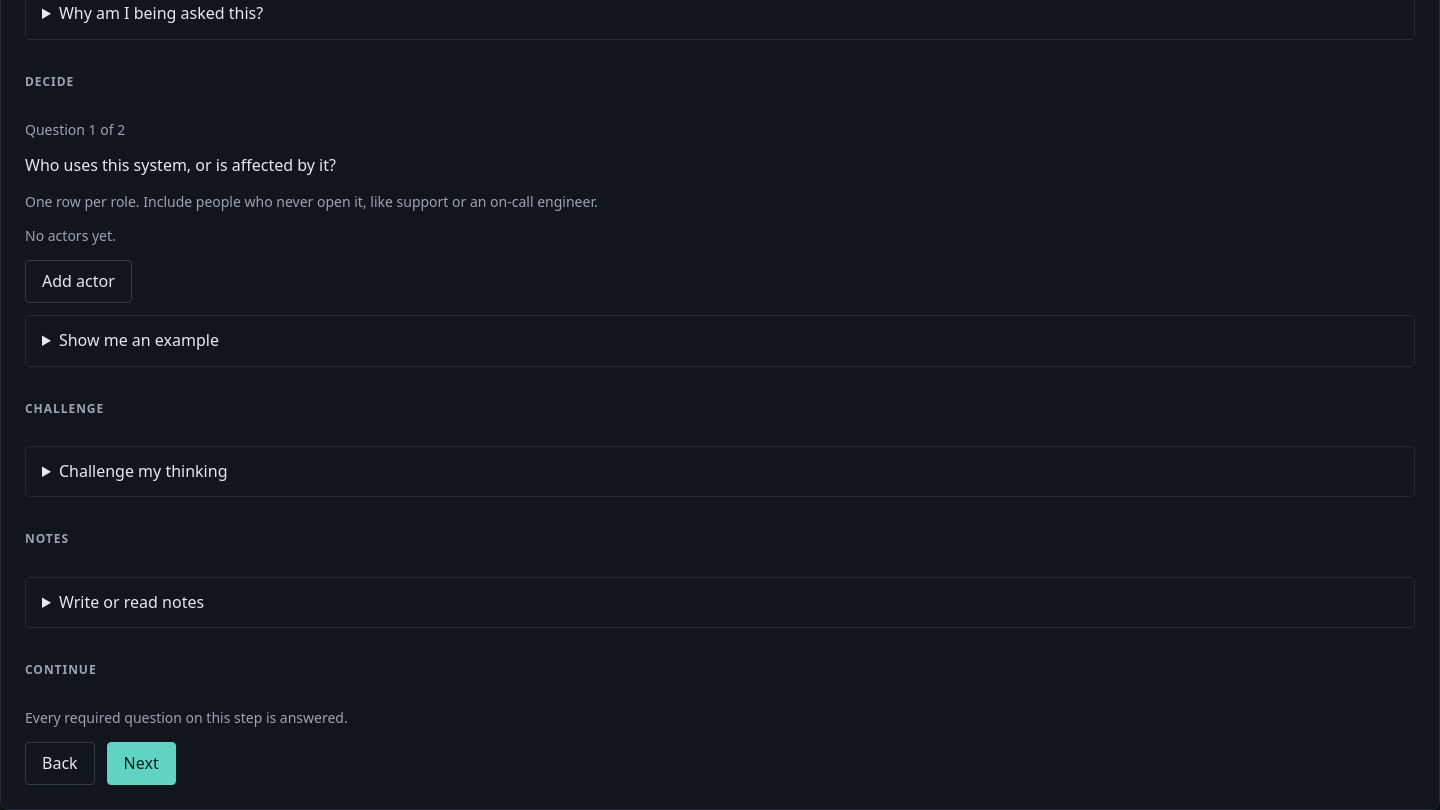
StepPanelComponent › a step with several questions › marks an optional question as optional, and a required one not
The width and height of the screenshot is (1440, 810).
(page scrolled)
Click the button "Next". click: (141, 763)
box: [107,742,176,785]
(page scrolled)
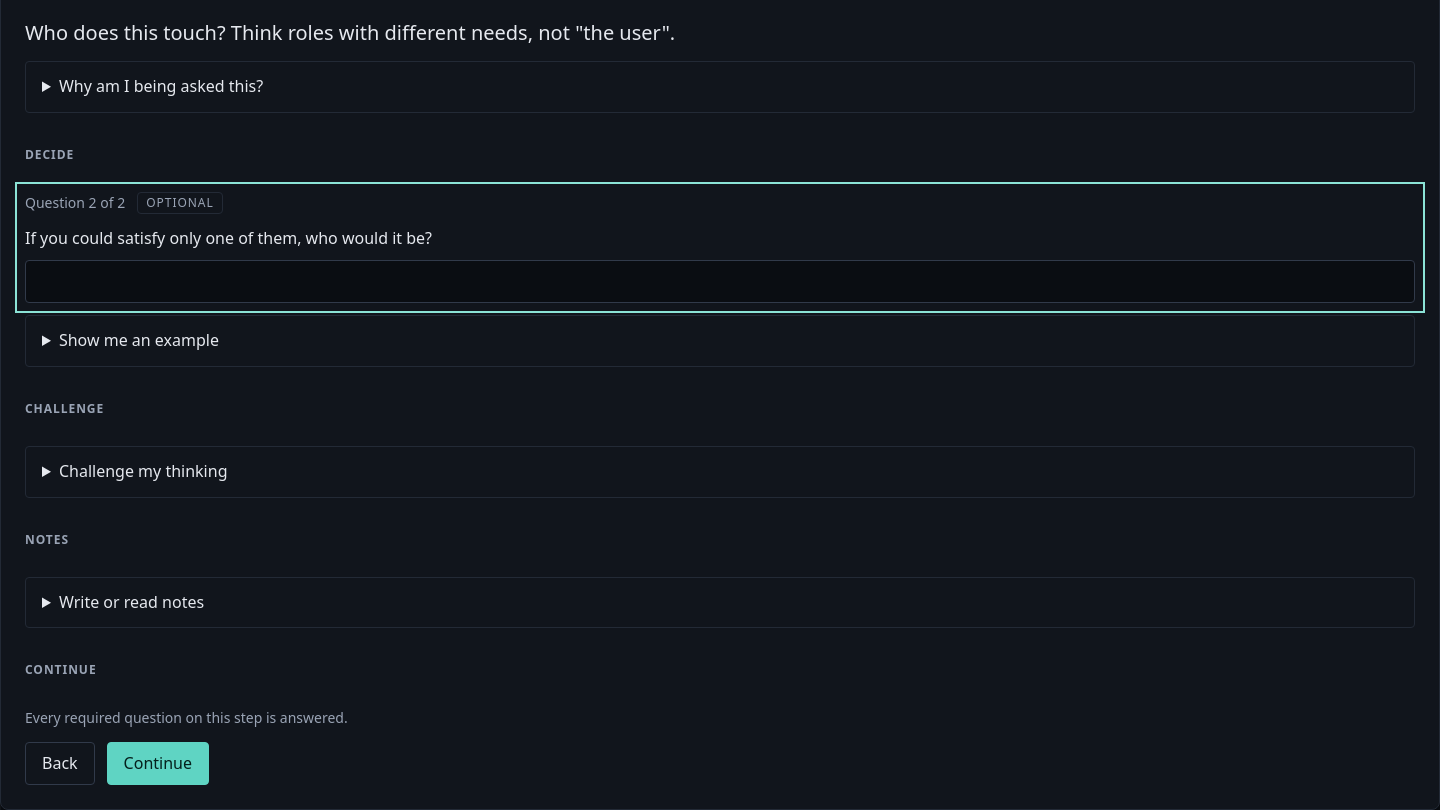
Expected: the text with class "step__optional" reads "Optional", [146,194,214,211]
